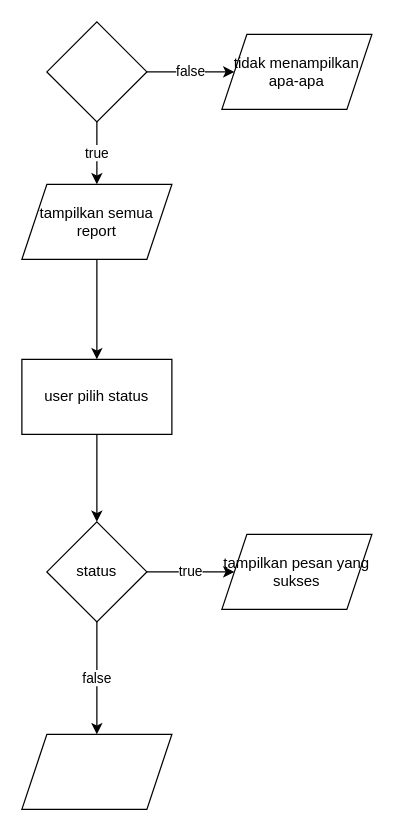
Image size: 394x831. Some labels were removed from this diagram. Each missing label, with the box of its shape:
if report: (46, 21, 147, 122)
tampilkan pesan yang gagal: (21, 733, 172, 809)
